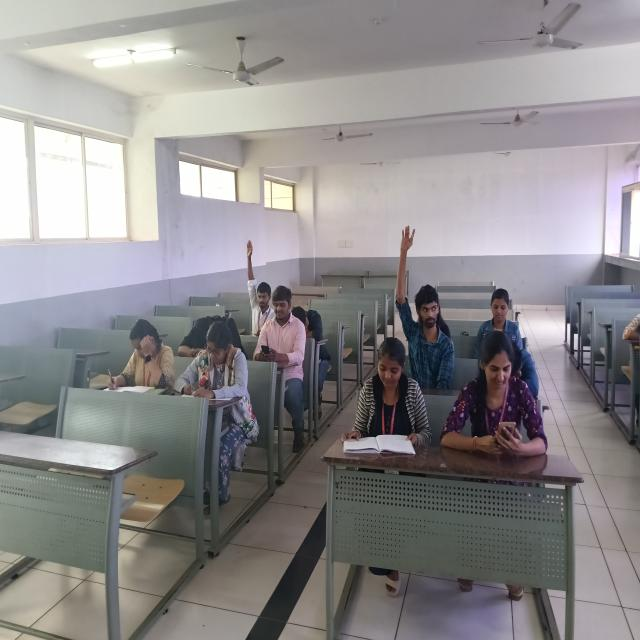Hand Rising: (390, 218, 452, 363), (242, 236, 274, 322)
Reading: (339, 336, 425, 447)
Sleeping: (178, 306, 248, 362)
Using Phone: (445, 327, 547, 450), (252, 281, 306, 373)
Writing: (172, 321, 252, 410), (96, 314, 178, 397)
